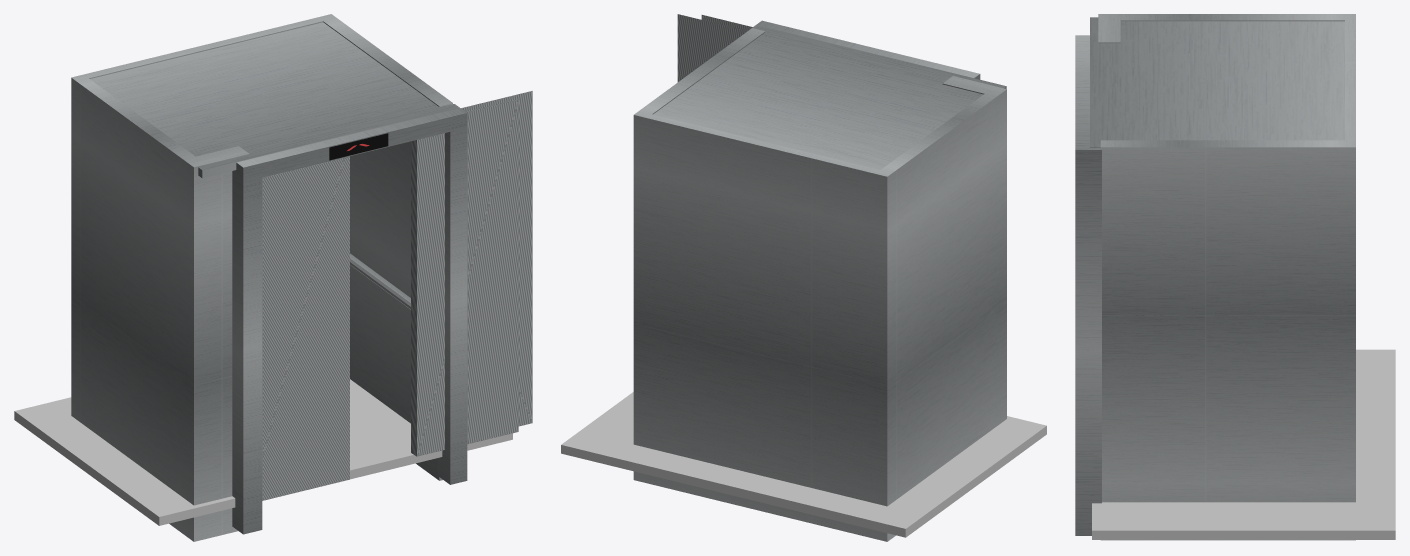
File: lift.fbx
3 views of the same model, side by side, from view 1: azimuth 30°, elevation 25°; view 2: azimuth 150°, elevation 25°; view 3: azimuth 270°, elevation 25° (orthographic). The views are drawn at different scales.
Parts seen in each view (by area): view 1: pCube20, polySurface357, polySurface370, pCube34, polySurface633, pCube36, polySurface634, pCylinder3; view 2: pCube20, pCube34, pCube36, polySurface357, polySurface633; view 3: pCube20, pCube34, pCube36, polySurface633.
Part boxes in pixels (x1,y1,x2,y2): pCube20: (71,14,452,541); polySurface357: (411,91,532,456); polySurface370: (262,145,349,500); pCube34: (90,22,456,178); polySurface633: (232,104,467,534); pCube36: (14,379,512,525); polySurface634: (329,133,388,160); pCylinder3: (350,253,410,309); pCube20: (633,28,1006,541); pCube34: (653,26,1006,169); pCube36: (561,392,1046,537); polySurface357: (677,14,752,81); polySurface633: (750,20,980,79); pCube20: (1098,14,1355,540); pCube34: (1090,17,1344,147); pCube36: (1092,349,1395,539); polySurface633: (1075,35,1101,535).
Bounding box in the file's own units: 355 × 338 × 249.
